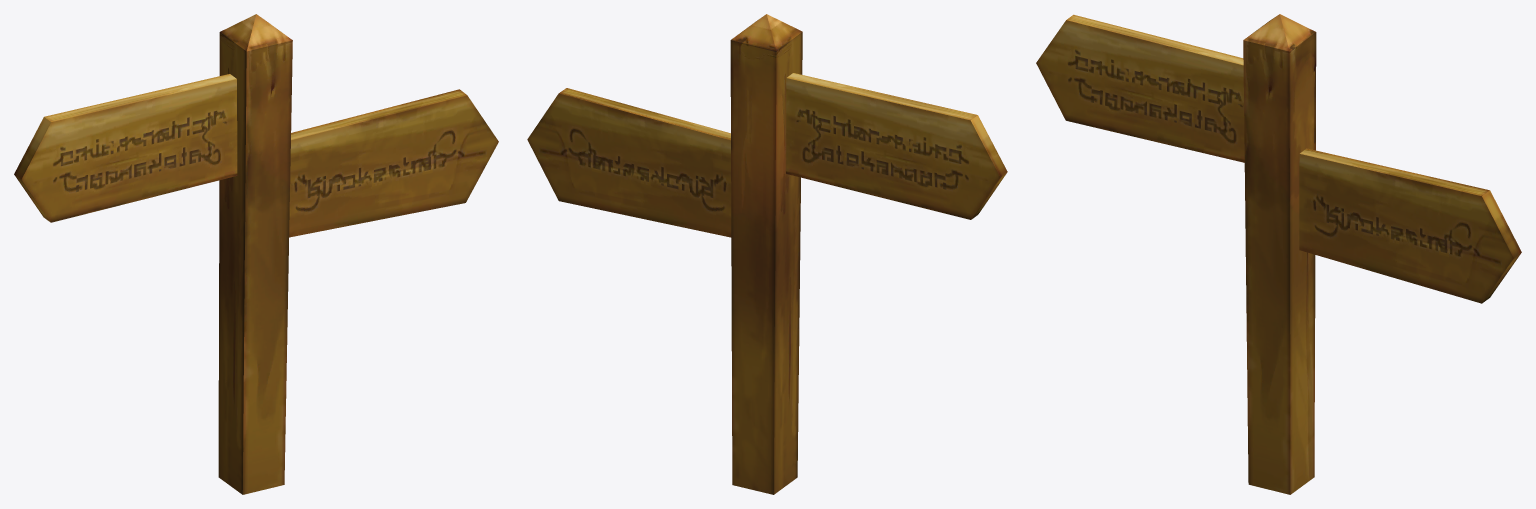
File: Gimmick_Kanban_002.fbx
3 renders of one model, left to right at view 1: azimuth 30°, elevation 25°; view 2: azimuth 150°, elevation 25°; view 3: azimuth 330°, elevation 25°, orthographic.
Parts seen in each view (by area): view 1: Gimmick_Kanban_002; view 2: Gimmick_Kanban_002; view 3: Gimmick_Kanban_002.
Boxes of the visible parts, x1,y1,x2,y2 form: Gimmick_Kanban_002: [14, 14, 498, 494]; Gimmick_Kanban_002: [527, 14, 1007, 494]; Gimmick_Kanban_002: [1036, 14, 1521, 494].
Size of the model in its own units: 1.55 by 1.45 by 0.1614.
